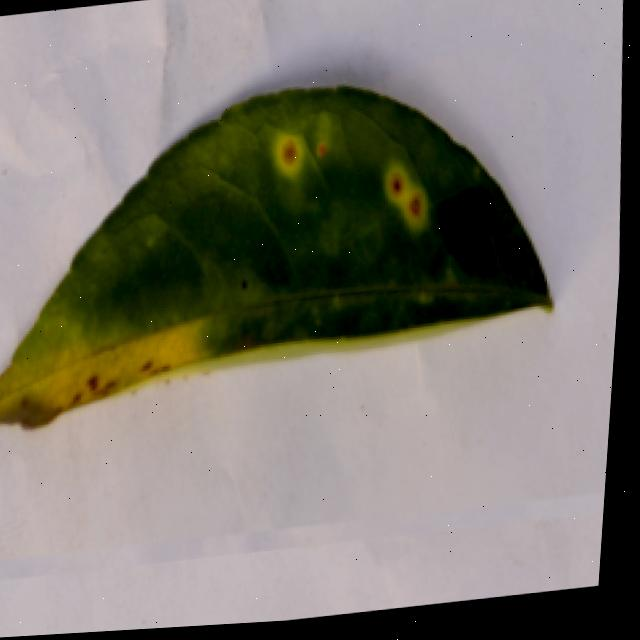canker: (0, 86, 552, 425), (0, 337, 176, 441), (355, 155, 460, 242), (254, 122, 340, 181)
